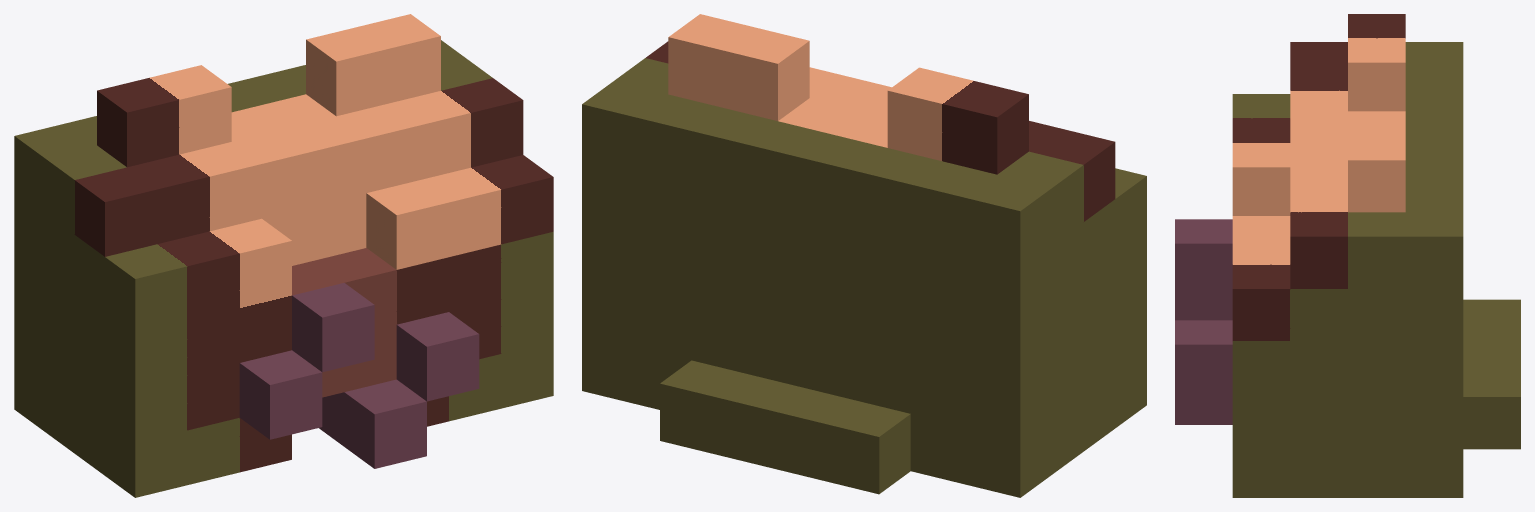
The model's file is NB_TR_F_chest.fbx.
3 renders of one model, left to right at view 1: azimuth 30°, elevation 25°; view 2: azimuth 150°, elevation 25°; view 3: azimuth 270°, elevation 25°, orthographic. The views are drawn at different scales.
Parts seen in each view (by area): view 1: chest; view 2: chest; view 3: chest.
Part boxes in pixels (x1,y1,x2,y2): chest: (14, 14, 553, 497); chest: (582, 14, 1146, 497); chest: (1175, 14, 1520, 497).
Size of the model in its own units: 8 by 6 by 6.
Materials: 1 (1 with a texture image).
